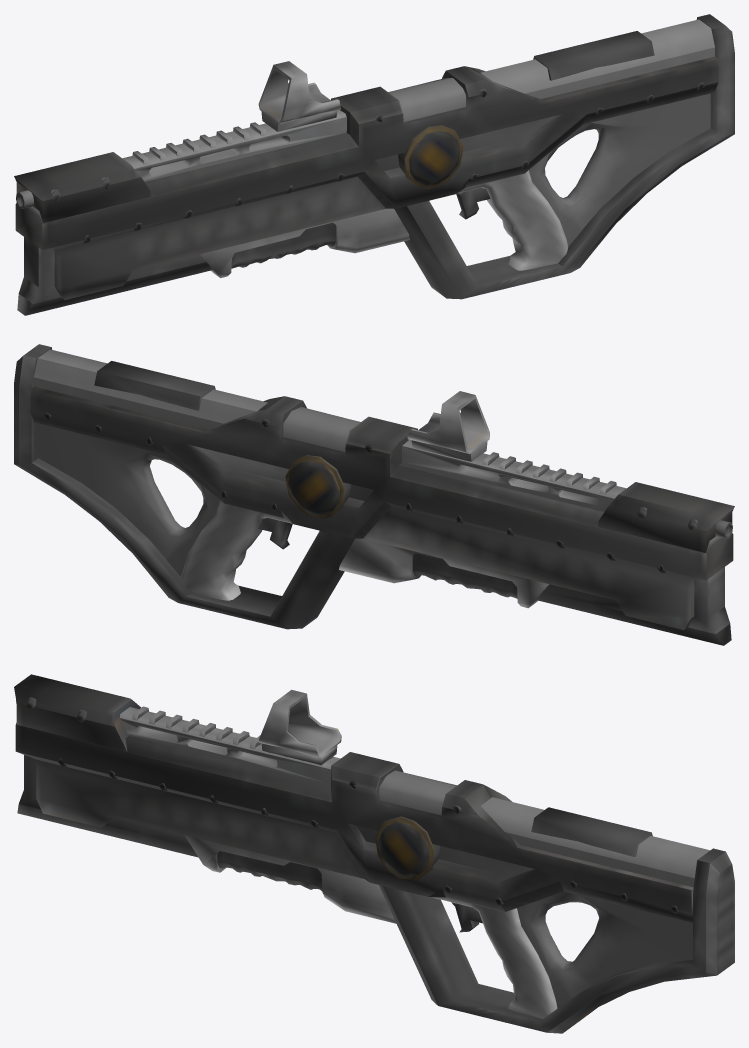
The model's file is Gun_Rifle.obj.
3 views of the same model, one above another, from view 1: azimuth 30°, elevation 25°; view 2: azimuth 150°, elevation 25°; view 3: azimuth 330°, elevation 25° (orthographic).
Parts seen in each view (by area): view 1: Gun_Rifle_Cube.285; view 2: Gun_Rifle_Cube.285; view 3: Gun_Rifle_Cube.285.
Boxes of the visible parts, x1=… form: Gun_Rifle_Cube.285: x1=14, y1=14, x2=734, y2=315; Gun_Rifle_Cube.285: x1=14, y1=344, x2=734, y2=645; Gun_Rifle_Cube.285: x1=14, y1=674, x2=734, y2=1033.
Bounding box in the file's own units: 1.06 × 0.3736 × 0.0871.
1 material, 1 textured.
